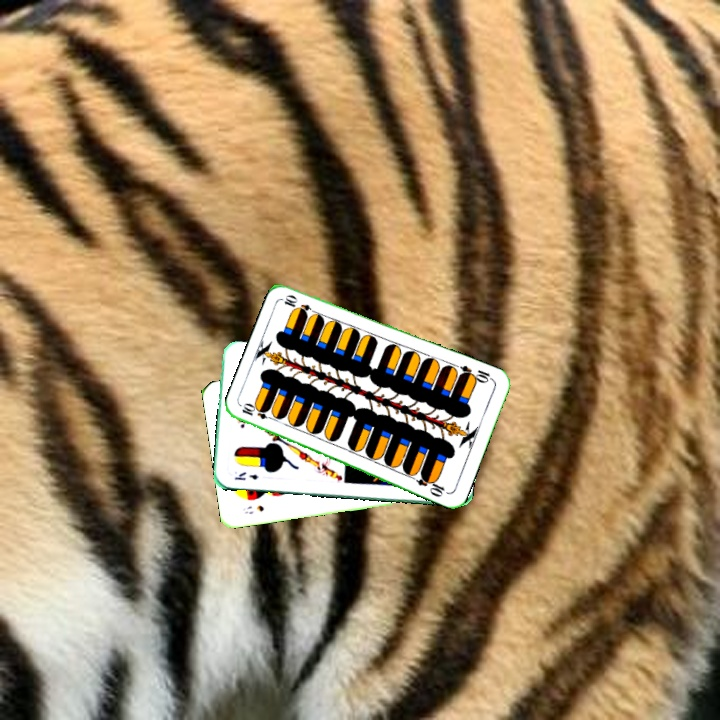E10: (456, 361, 496, 386), (238, 401, 278, 423)
EK: (230, 468, 261, 482)
S8: (239, 501, 266, 517)
